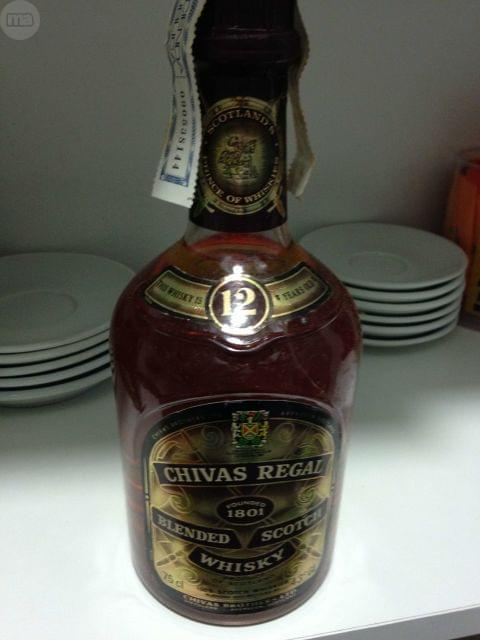Chivas Regal: (103, 1, 367, 630)
